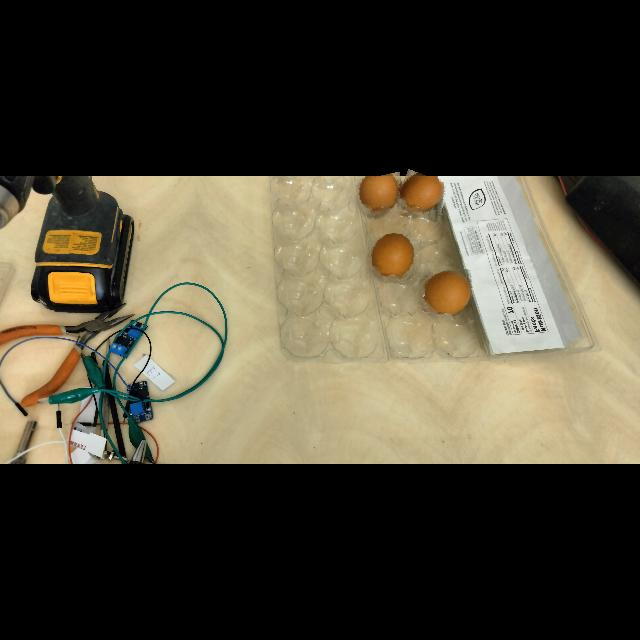Egg: (418, 264, 474, 324), (363, 226, 419, 284), (396, 173, 448, 219), (356, 174, 406, 220)
